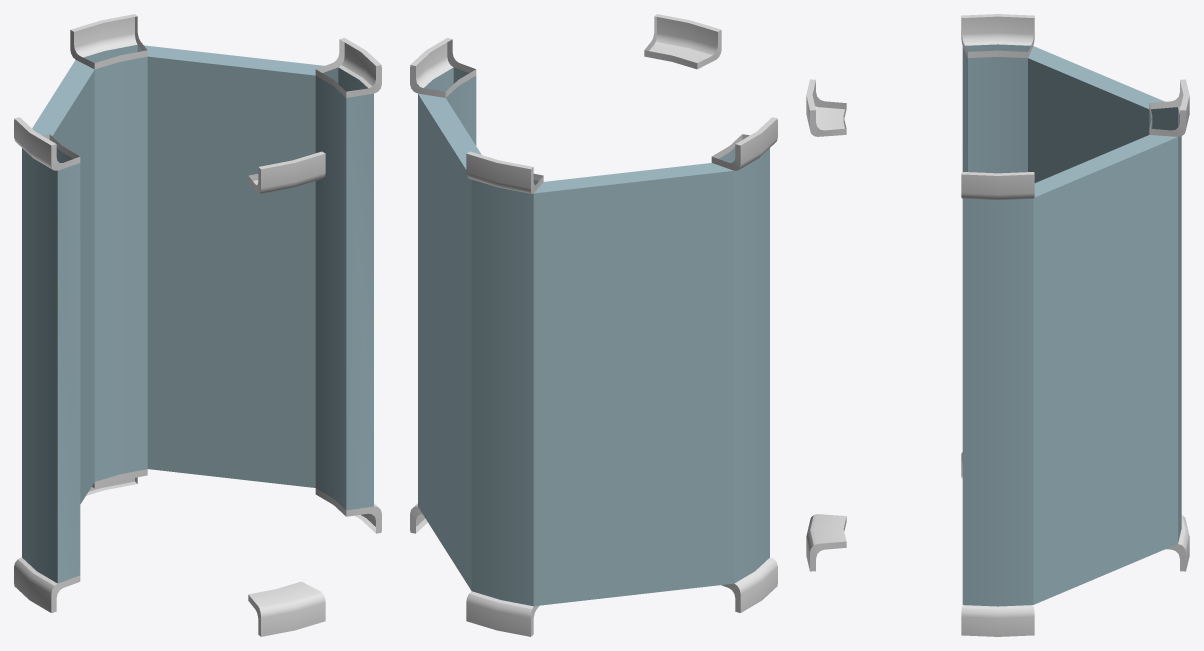
File: Mod_Hedro_Spot_Glass.fbx
The picture shows the model from 3 angles, left to right: view 1: azimuth 30°, elevation 25°; view 2: azimuth 150°, elevation 25°; view 3: azimuth 270°, elevation 25°; orthographic projection.
Parts seen in each view (by area): view 1: Hedro_Spot_Glass; view 2: Hedro_Spot_Glass; view 3: Hedro_Spot_Glass.
Part boxes in pixels (x1,y1,x2,y2): Hedro_Spot_Glass: (14,14,381,636); Hedro_Spot_Glass: (410,14,777,636); Hedro_Spot_Glass: (806,14,1189,636).
Bounding box in the file's own units: 134 × 178 × 134.
